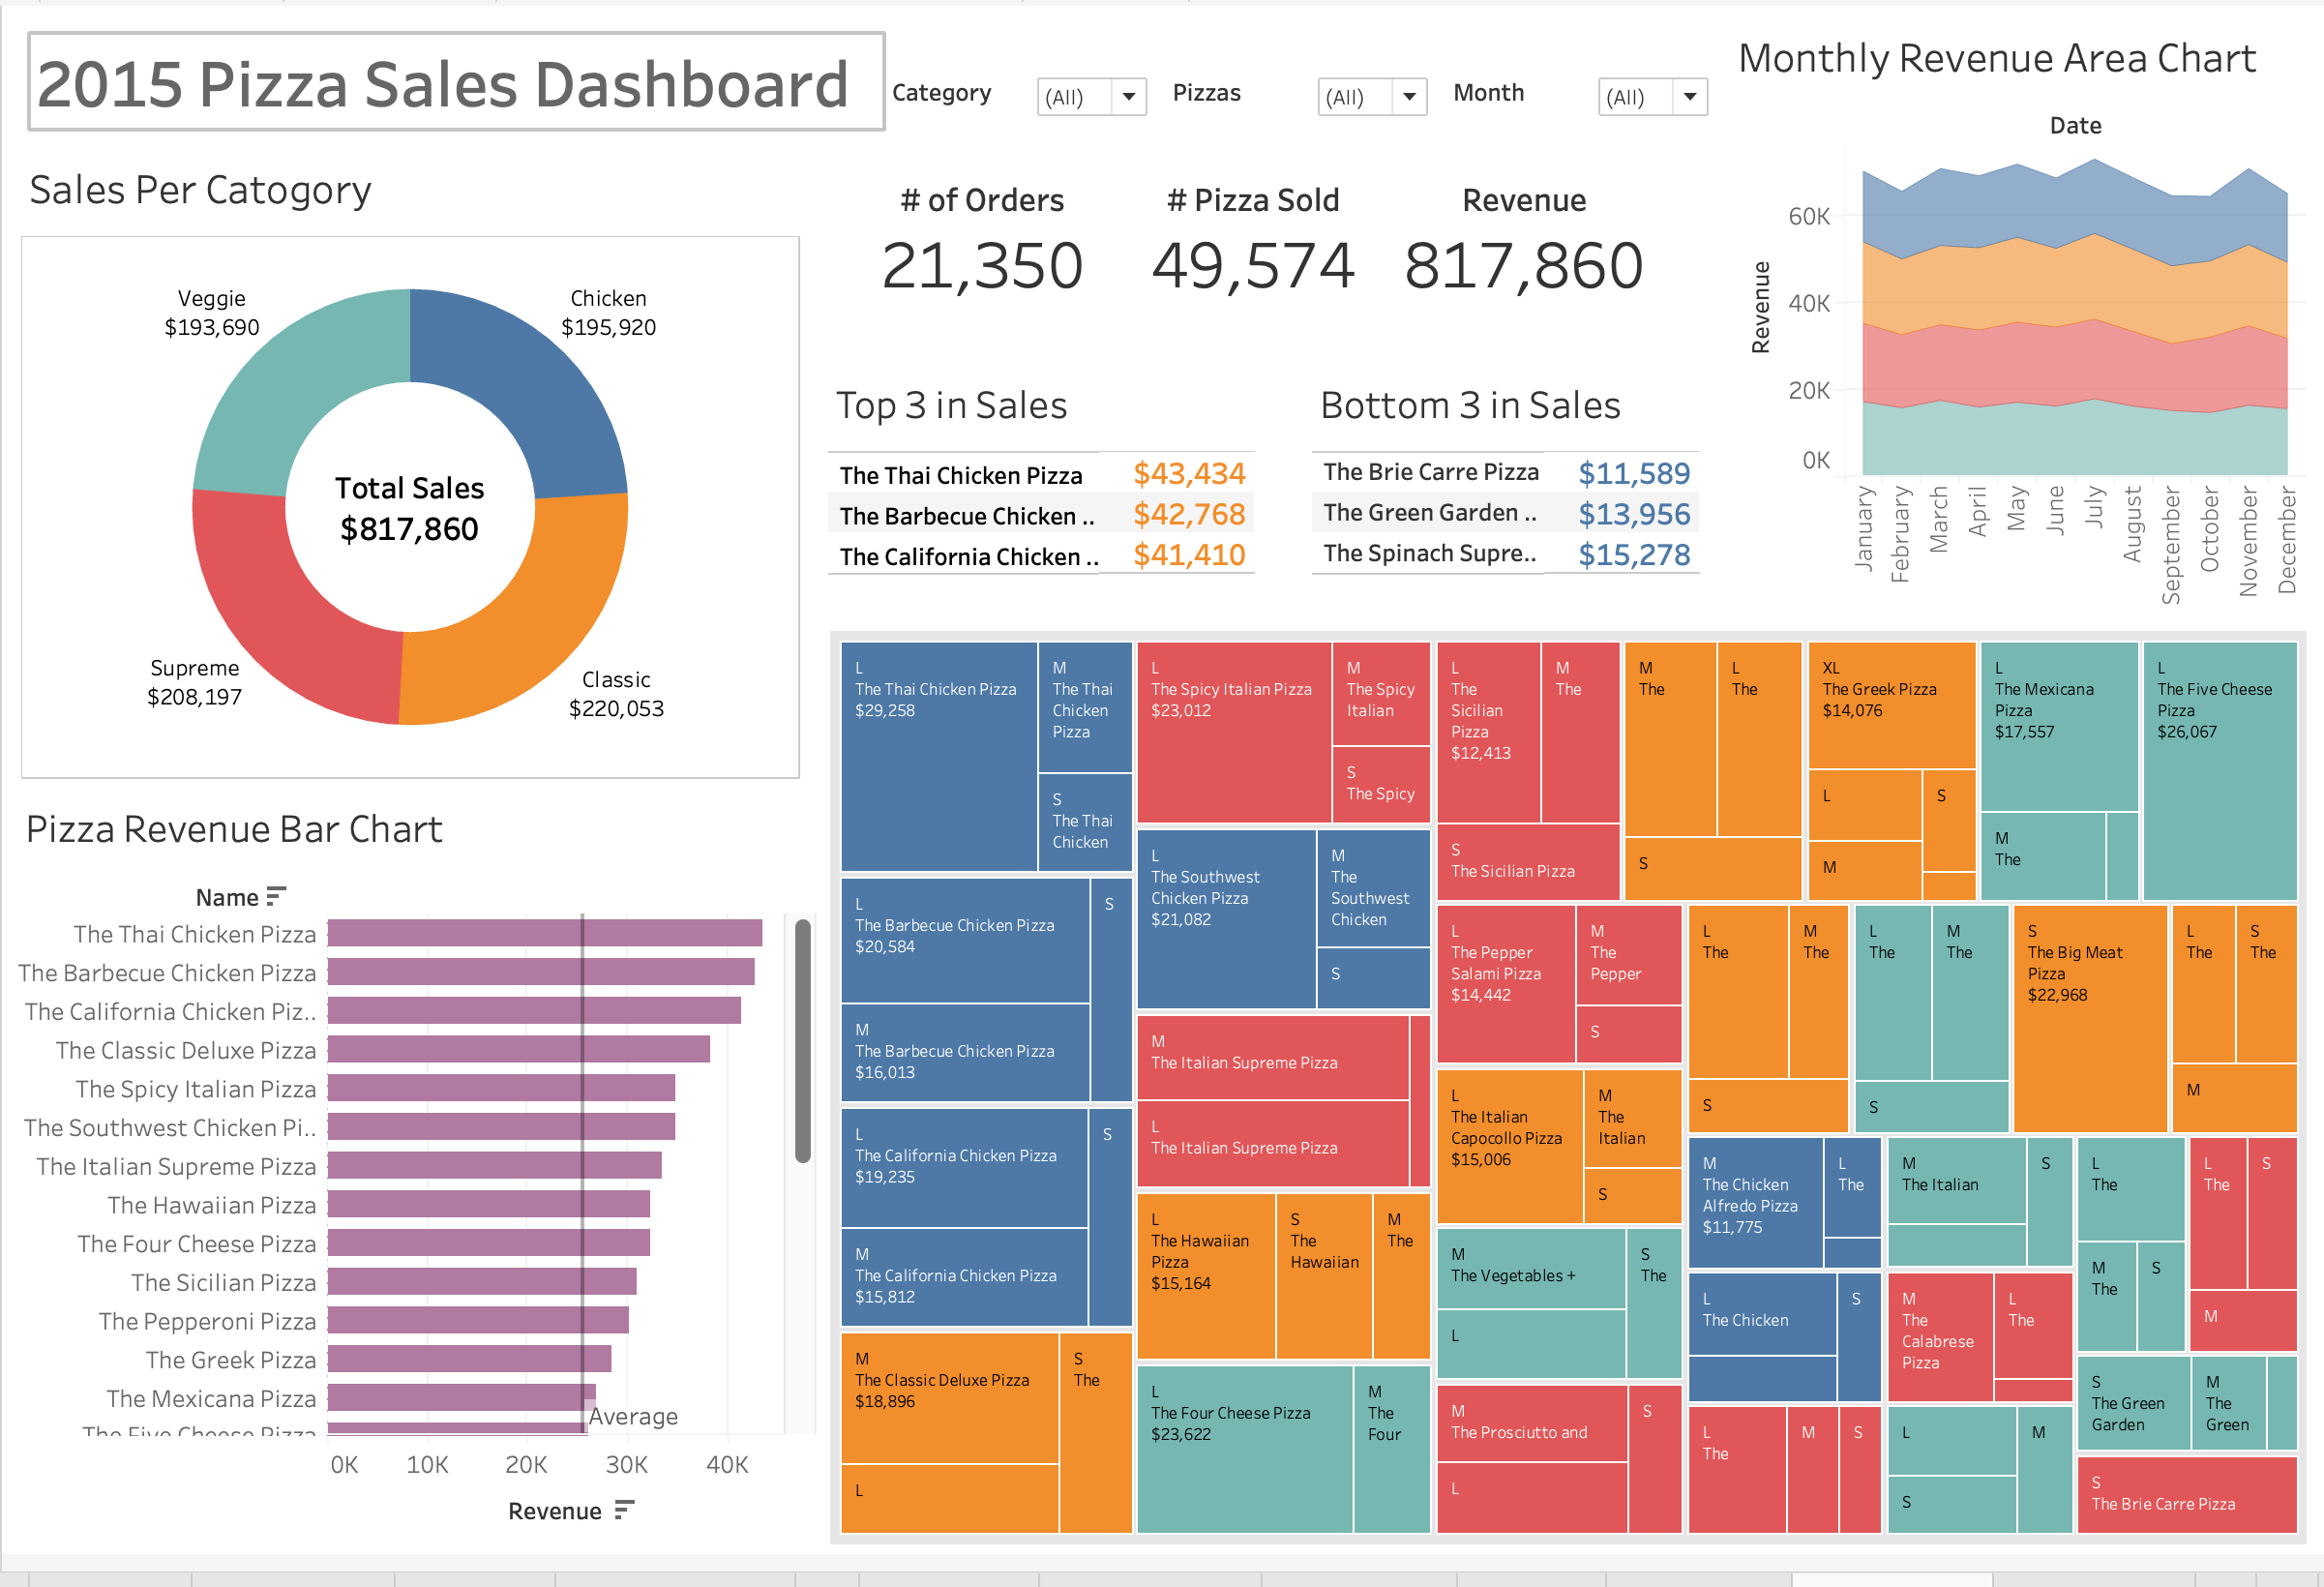

The page's visual inventory and layout, read from the dashboard file:
{"tool":"tableau","page":{"name":"Dashboard 1","canvas":[1000,1000],"units":"permille","ordinal":0},"visuals":[{"type":"worksheet","title":"Area_Monthly","mark":"Area","rows":["Revenue"],"cols":["date"],"box":[744.2,10,248.3,393.8]},{"type":"text","box":[12.5,18.8,366.7,60]},{"type":"filter","title":"Donut_Cat","param":"[federated.1o0dw7k0faptvu1bidrdg0b0qbd8].[none:category:nk]","box":[383.3,42.3,112.5,33.1]},{"type":"filter","title":"Bar_Name_Size (2)","param":"[federated.1o0dw7k0faptvu1bidrdg0b0qbd8].[none:name:nk]","box":[504.2,42.3,112.5,33.1]},{"type":"filter","title":"Area_Monthly","param":"[federated.1o0dw7k0faptvu1bidrdg0b0qbd8].[mn:date:ok]","box":[625,42.3,112.5,33.1]},{"type":"worksheet","title":"Donut_Cat","mark":"Pie","rows":["Calculation_43628677386448897","Calculation_43628677386448897"],"box":[8.3,95,335.8,405]},{"type":"worksheet","title":"KPI","mark":"Automatic","box":[364.2,112.5,364.2,93.8]},{"type":"worksheet","title":"Top_3_sales","mark":"Automatic","rows":["name"],"box":[355.8,235,250.8,225]},{"type":"worksheet","title":"Bot_3_sales","mark":"Automatic","rows":["name"],"box":[564.2,235,175,200]},{"type":"worksheet","title":"Bar_Name_Size (2)","mark":"Automatic","rows":["name"],"cols":["Revenue"],"box":[6.7,508.8,344.2,482.5]}]}

Visuals, with their boxes on the dashboard's canvas, which has no fixed pixel size, in thousandths of its width and height (x1, y1, x2, y2). These are canvas units, not pixel positions in the 2324x1587 screenshot, which may show the page scaled, cropped or inside an application window:
"Area_Monthly" worksheet (Area marks): locate(744, 10, 992, 404)
text: locate(12, 19, 379, 79)
"Donut_Cat" filter: locate(383, 42, 496, 75)
"Bar_Name_Size (2)" filter: locate(504, 42, 617, 75)
"Area_Monthly" filter: locate(625, 42, 738, 75)
"Donut_Cat" worksheet (Pie marks): locate(8, 95, 344, 500)
"KPI" worksheet: locate(364, 112, 728, 206)
"Top_3_sales" worksheet: locate(356, 235, 607, 460)
"Bot_3_sales" worksheet: locate(564, 235, 739, 435)
"Bar_Name_Size (2)" worksheet: locate(7, 509, 351, 991)
